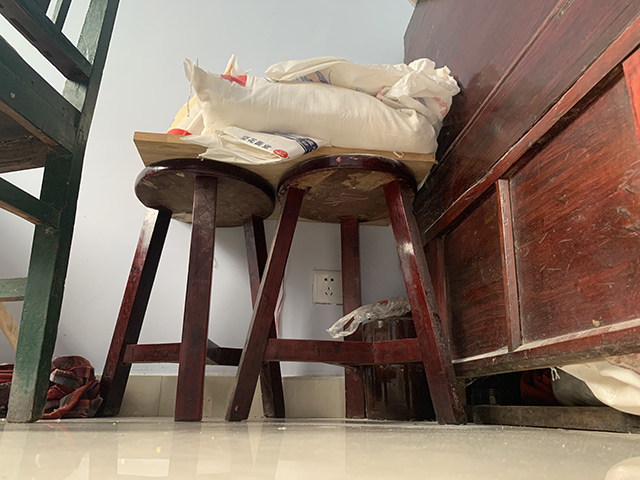stool: (223, 153, 472, 426), (88, 156, 287, 422), (1, 1, 120, 425)
